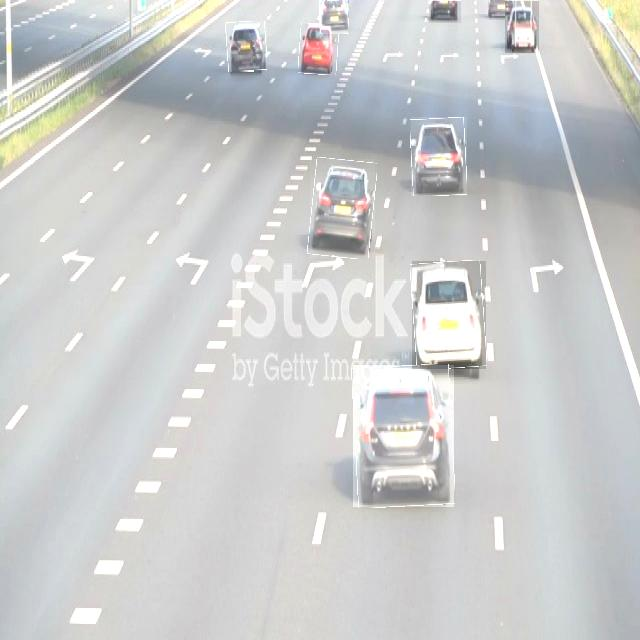Car: (353, 365, 454, 507), (412, 261, 486, 369), (310, 159, 375, 258), (411, 117, 467, 196), (226, 22, 267, 72), (299, 24, 339, 75), (319, 0, 348, 34), (429, 0, 461, 23)
Truck: (505, 0, 539, 53)
